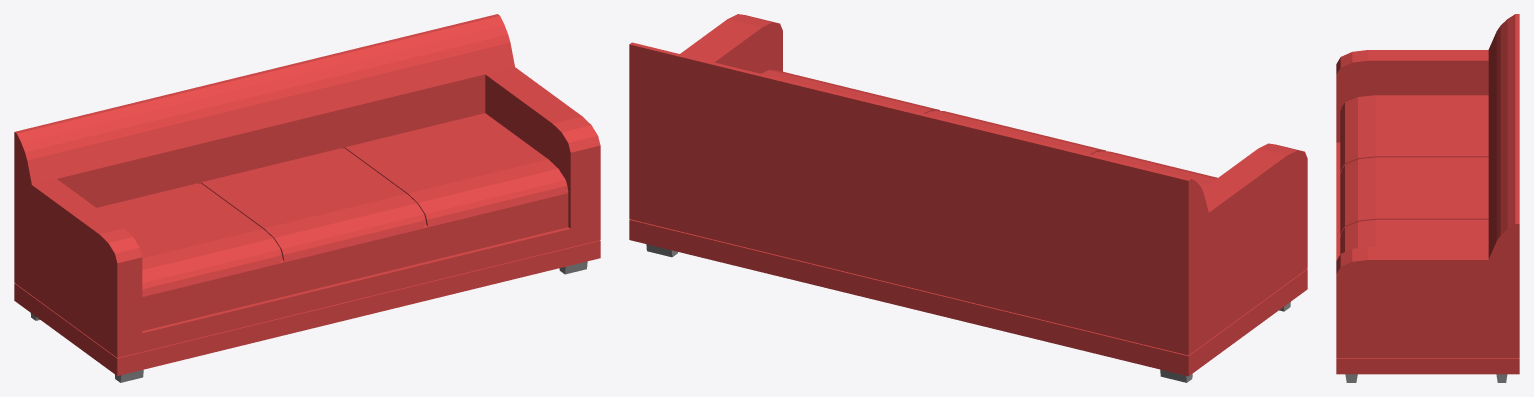
Rendered from PUN Lounge Couch.glb.
3 views of the same model, side by side, from view 1: azimuth 30°, elevation 25°; view 2: azimuth 150°, elevation 25°; view 3: azimuth 270°, elevation 25° (orthographic). The views are drawn at different scales.
Parts seen in each view (by area): view 1: Couch; view 2: Couch; view 3: Couch.
Part boxes in pixels (<box>): Couch: <box>14,14,600,382</box>; Couch: <box>629,14,1307,382</box>; Couch: <box>1336,14,1519,382</box>.
Size of the model in its own units: 2.74 by 0.9883 by 1.01.
Materials: 1 (1 with a texture image).
